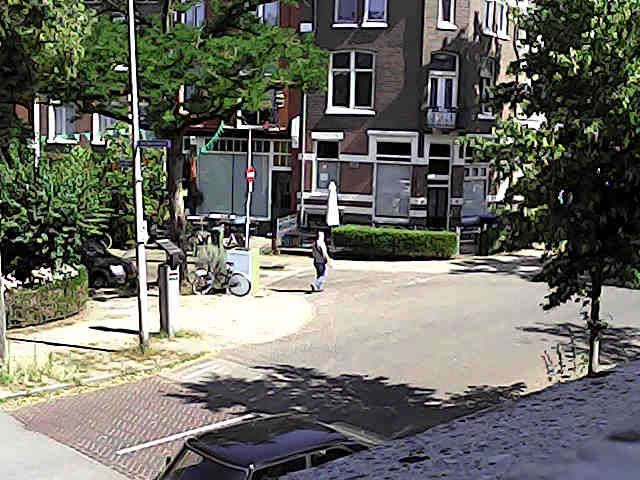suv: (158, 414, 382, 479)
